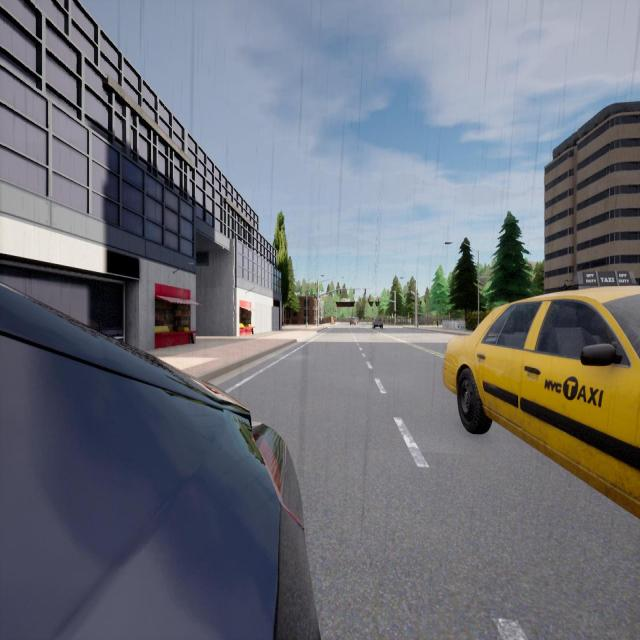Vehicle: (0, 283, 319, 640), (443, 286, 639, 517), (372, 317, 383, 329), (349, 317, 356, 326)
traffic_light: (364, 289, 366, 294), (410, 292, 412, 296), (394, 310, 396, 313), (404, 293, 405, 298), (340, 290, 341, 294), (368, 298, 369, 302), (360, 298, 360, 302), (378, 298, 378, 302), (354, 289, 354, 294)
